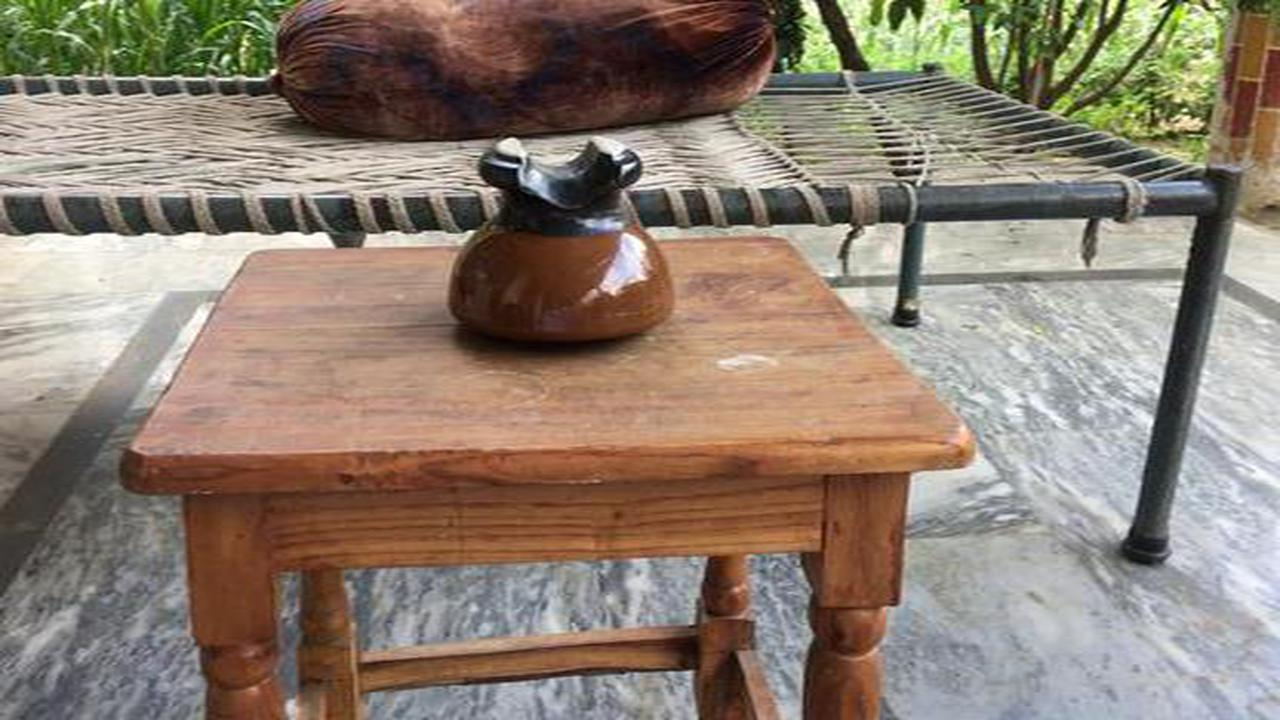insulator_pin: (434, 119, 687, 374)
